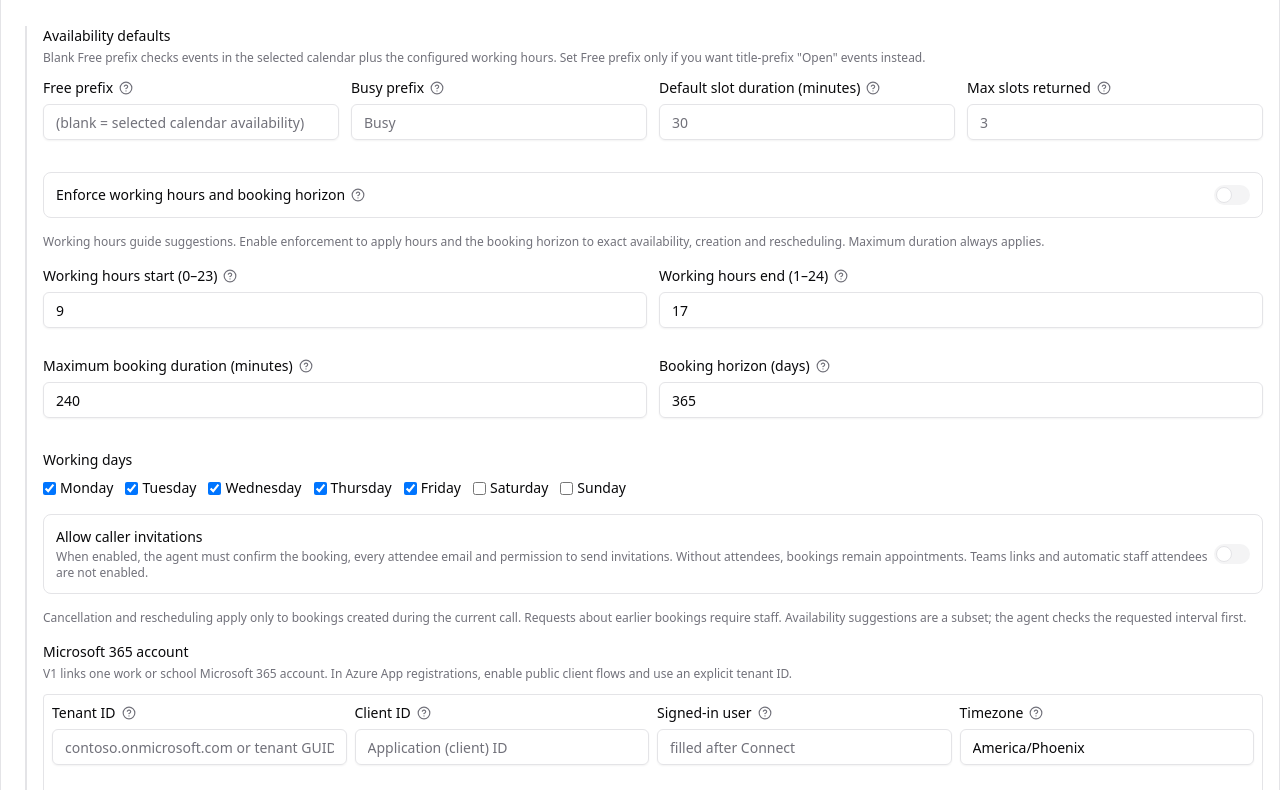
it: Microsoft numeric field editing › keeps Maximum booking duration (minutes) empty until replacement or blur
The image size is (1280, 790).
(page scrolled)
Clear the number field labelled "Maximum booking duration (minutes)" at (345,400), box [43,382,647,418]
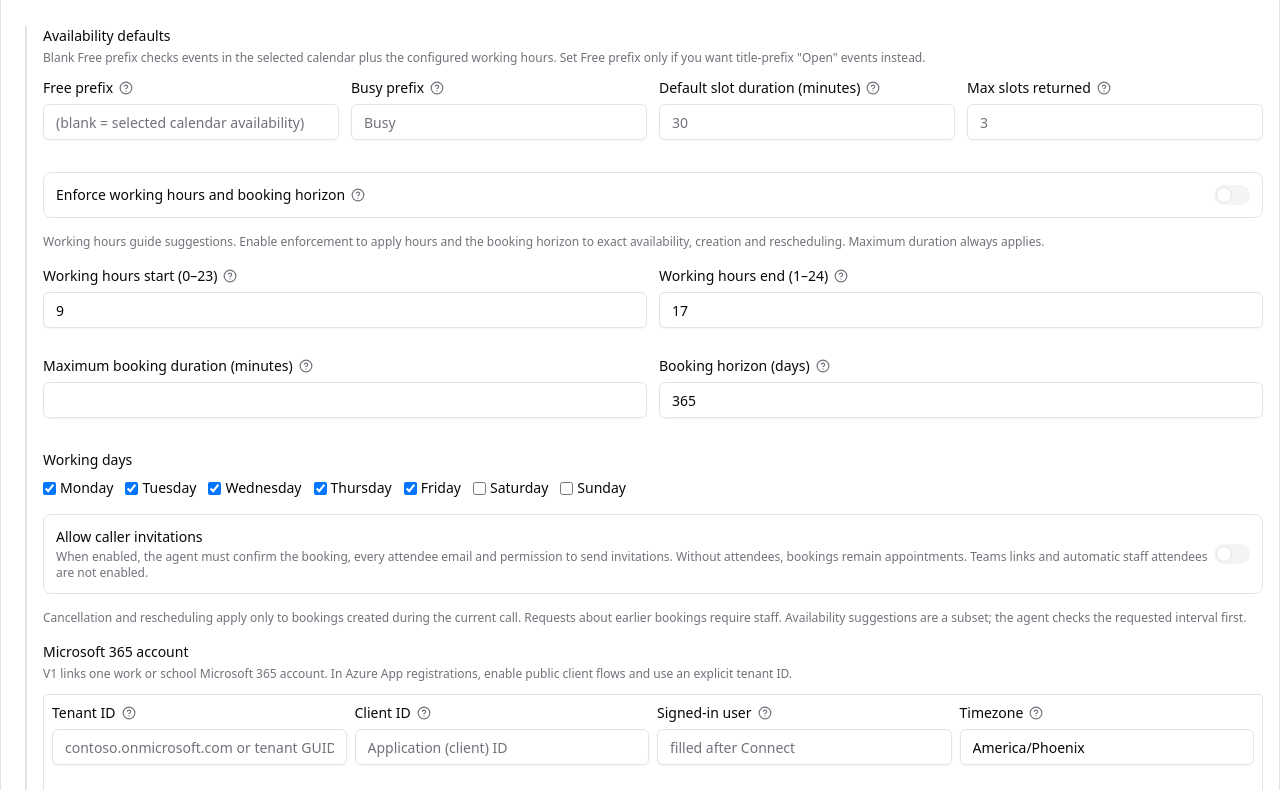
Type "60" into the number field labelled "Maximum booking duration (minutes)" at (345,400), box [43,382,647,418]
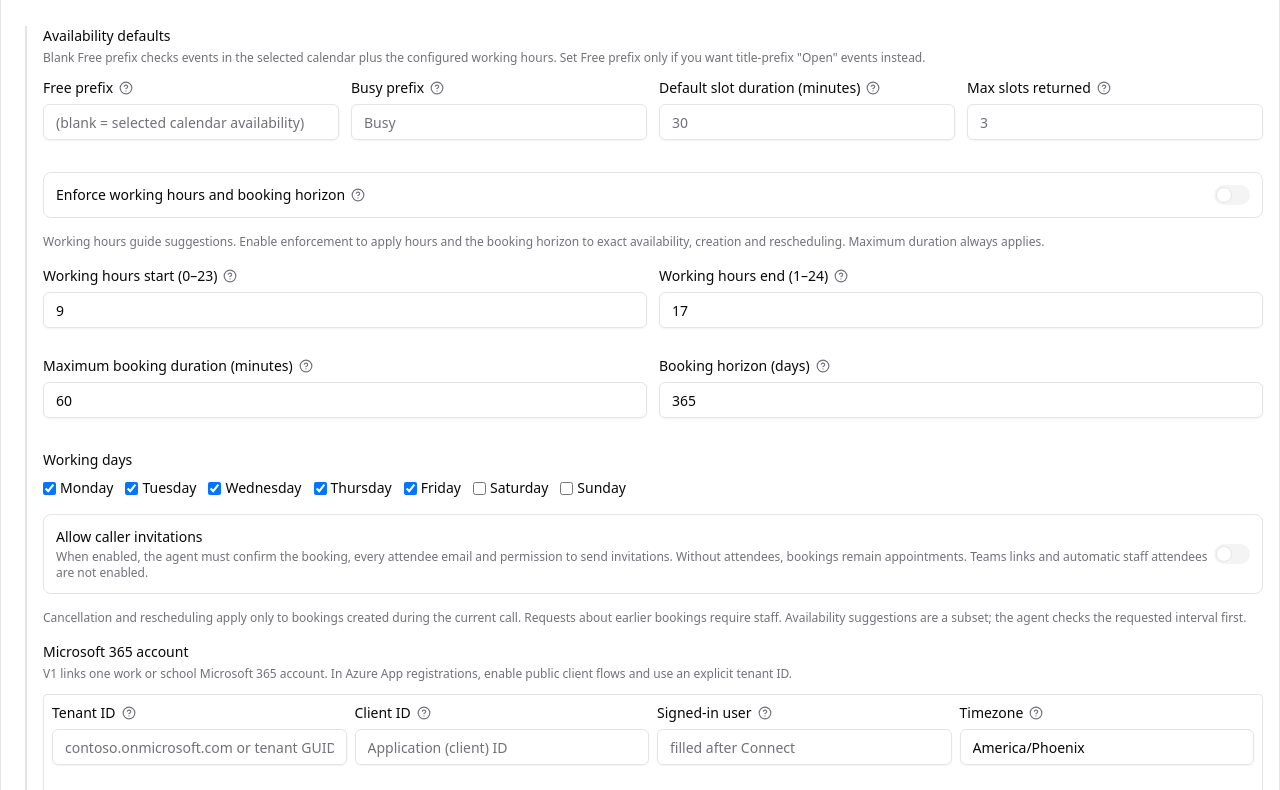
Clear the number field labelled "Maximum booking duration (minutes)" at (345,400), box [43,382,647,418]
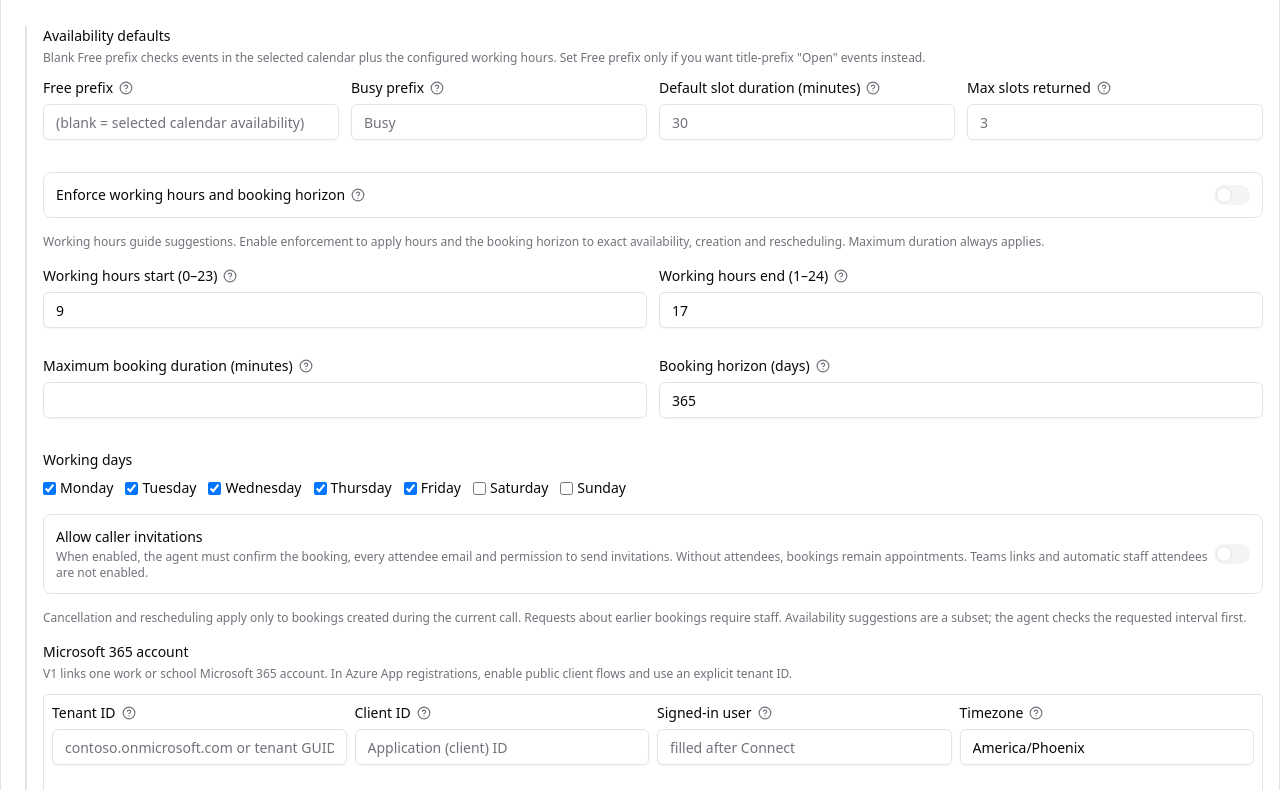
Leave the number field labelled "Maximum booking duration (minutes)", box [43,382,647,418]
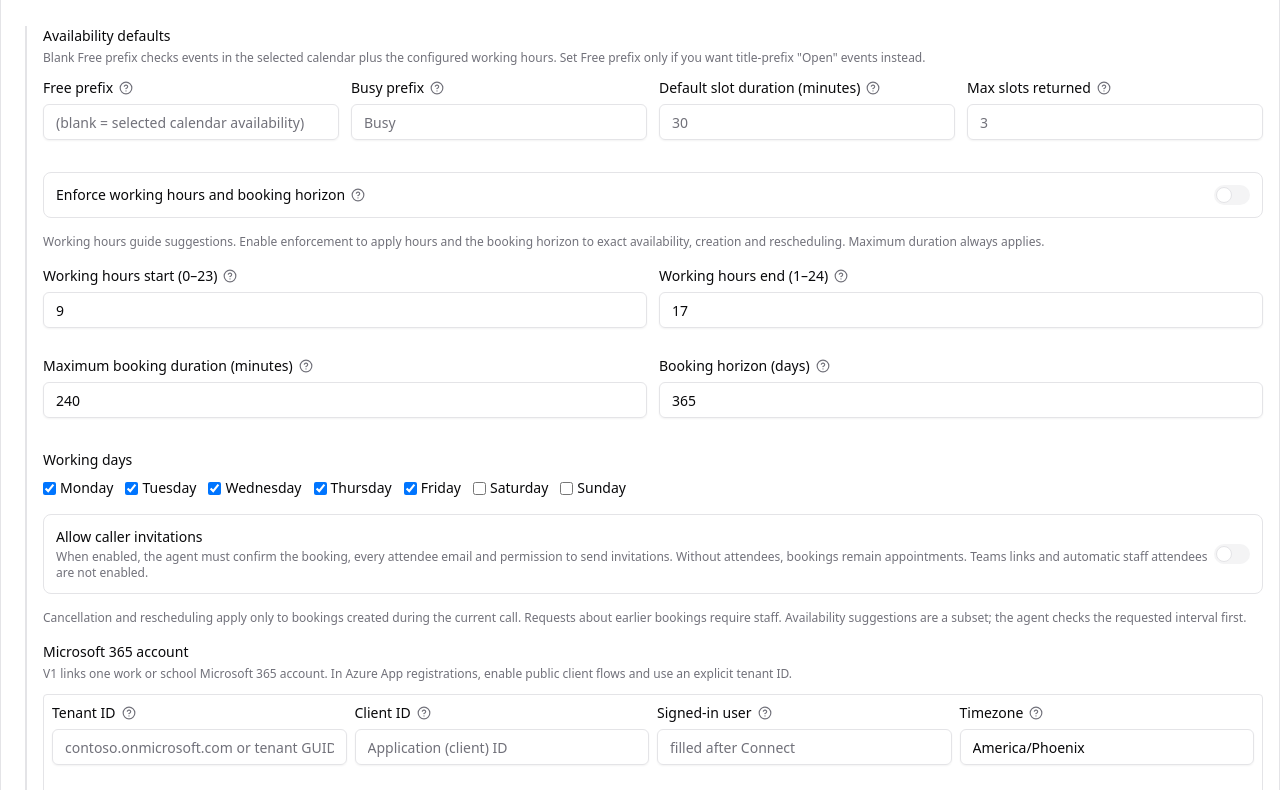
Result: the number field labelled "Maximum booking duration (minutes)" holds "240" at [43,382,647,418]
